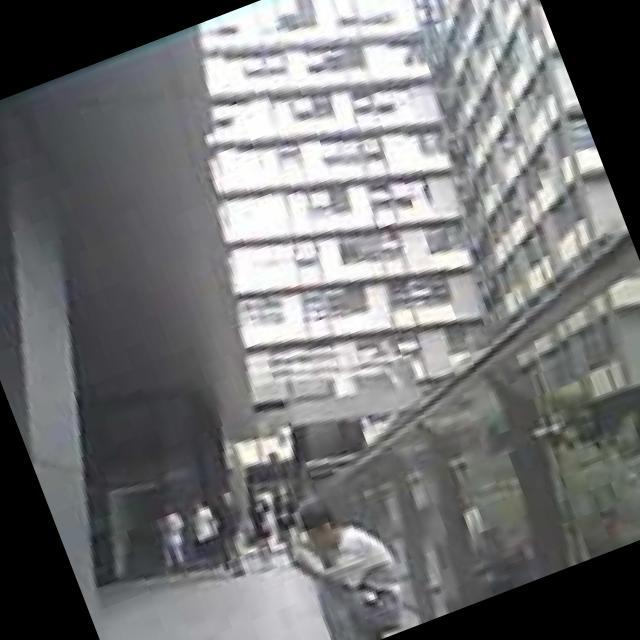person: (270, 479, 420, 640), (206, 486, 262, 576), (144, 499, 204, 582), (175, 490, 228, 572), (266, 486, 313, 560), (240, 489, 284, 562)
